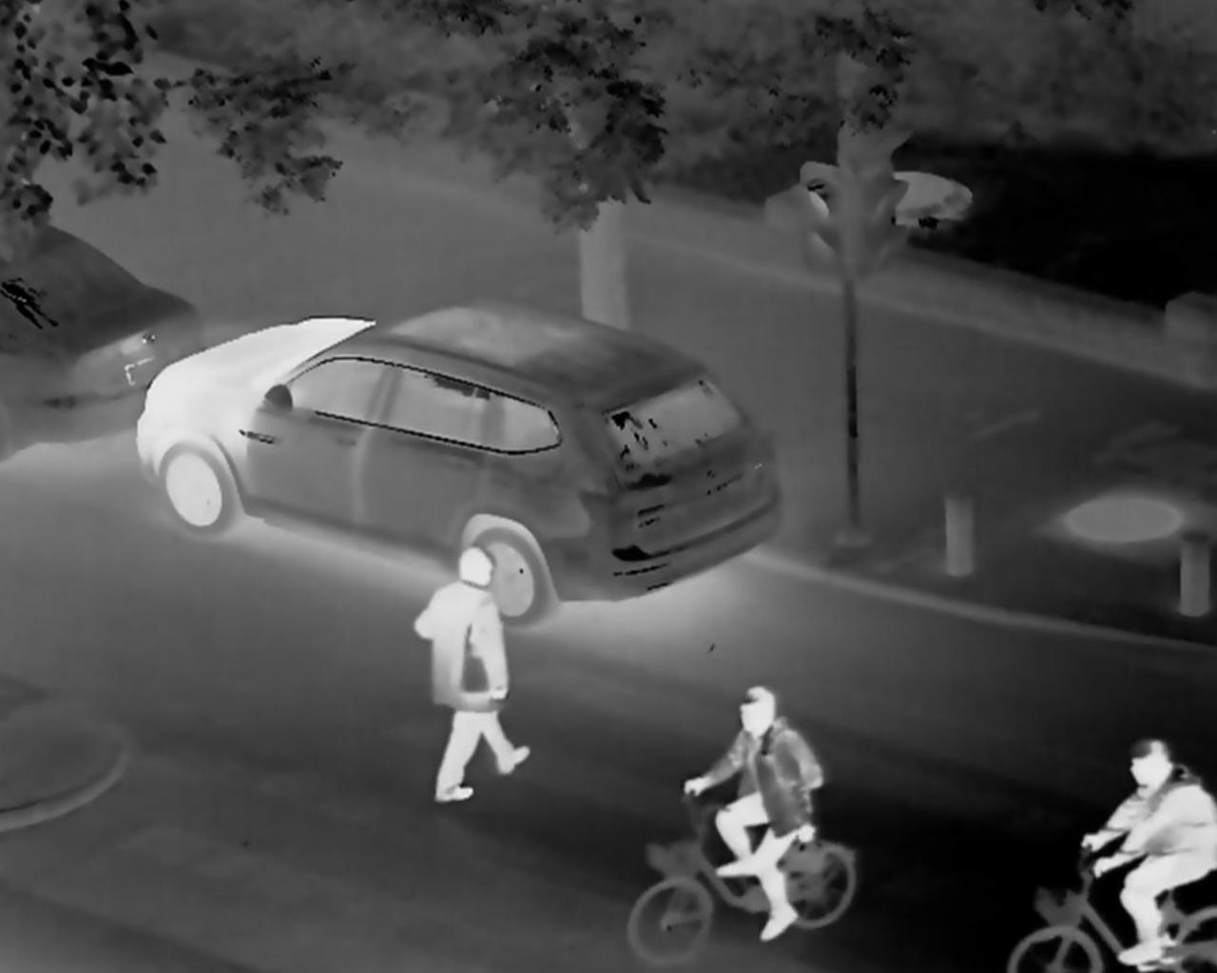person: (400, 540, 528, 828), (715, 680, 842, 956), (1102, 724, 1217, 969)
